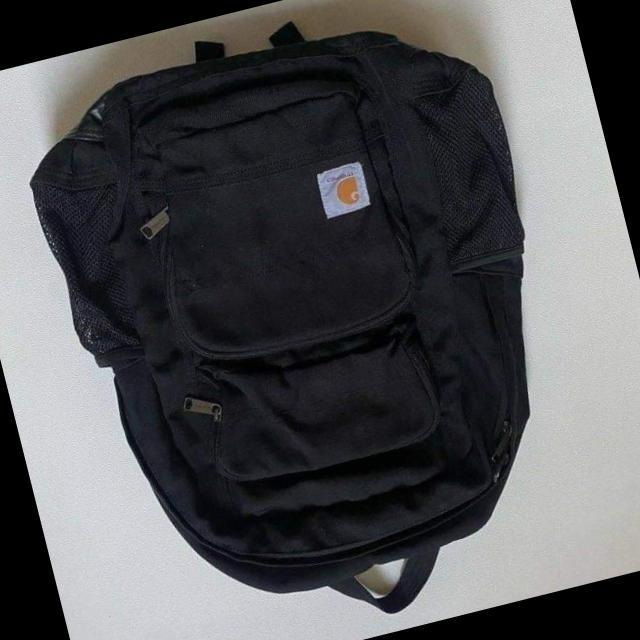bag: (38, 37, 532, 613)
